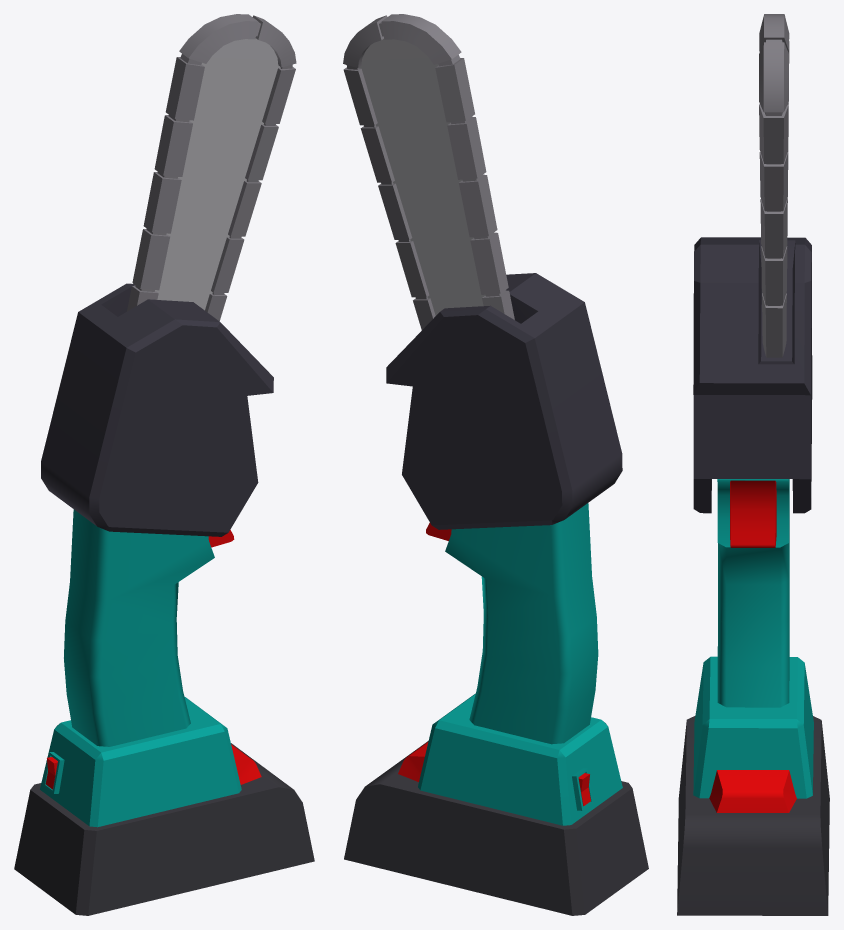
The model's file is Chainsaw.fbx.
3 views of the same model, side by side, from view 1: azimuth 30°, elevation 25°; view 2: azimuth 150°, elevation 25°; view 3: azimuth 270°, elevation 25° (orthographic). The views are drawn at different scales.
Parts seen in each view (by area): view 1: Chainsaw; view 2: Chainsaw; view 3: Chainsaw.
Boxes of the visible parts, x1,y1,x2,y2 form: Chainsaw: (14, 14, 314, 915); Chainsaw: (343, 14, 648, 915); Chainsaw: (677, 14, 829, 915).
Bounding box in the file's own units: 36.92 × 17.83 × 113.
